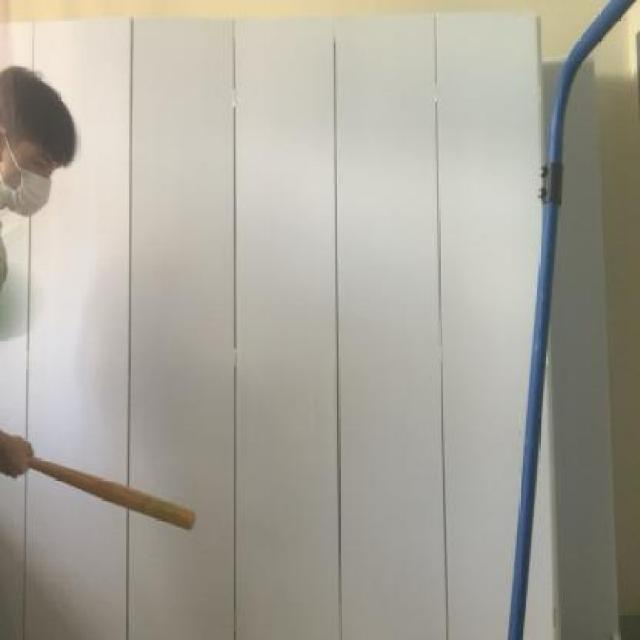baseball: (0, 269, 46, 348)
